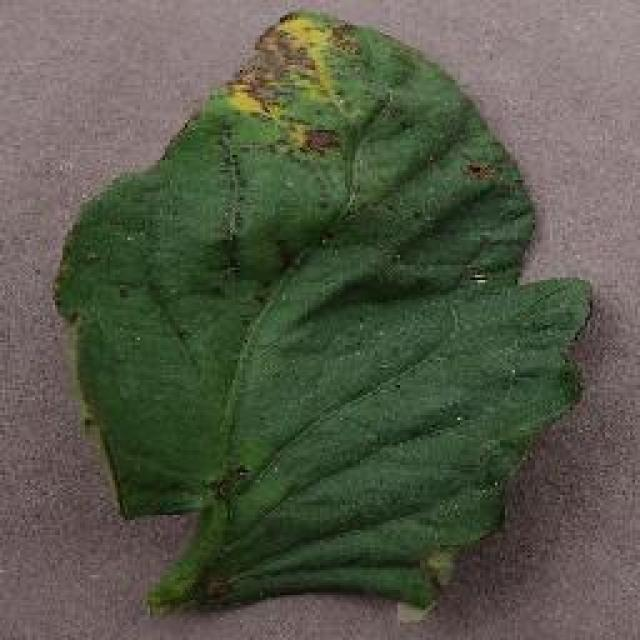Tomato bacterial spot leaf: (56, 12, 596, 620)
